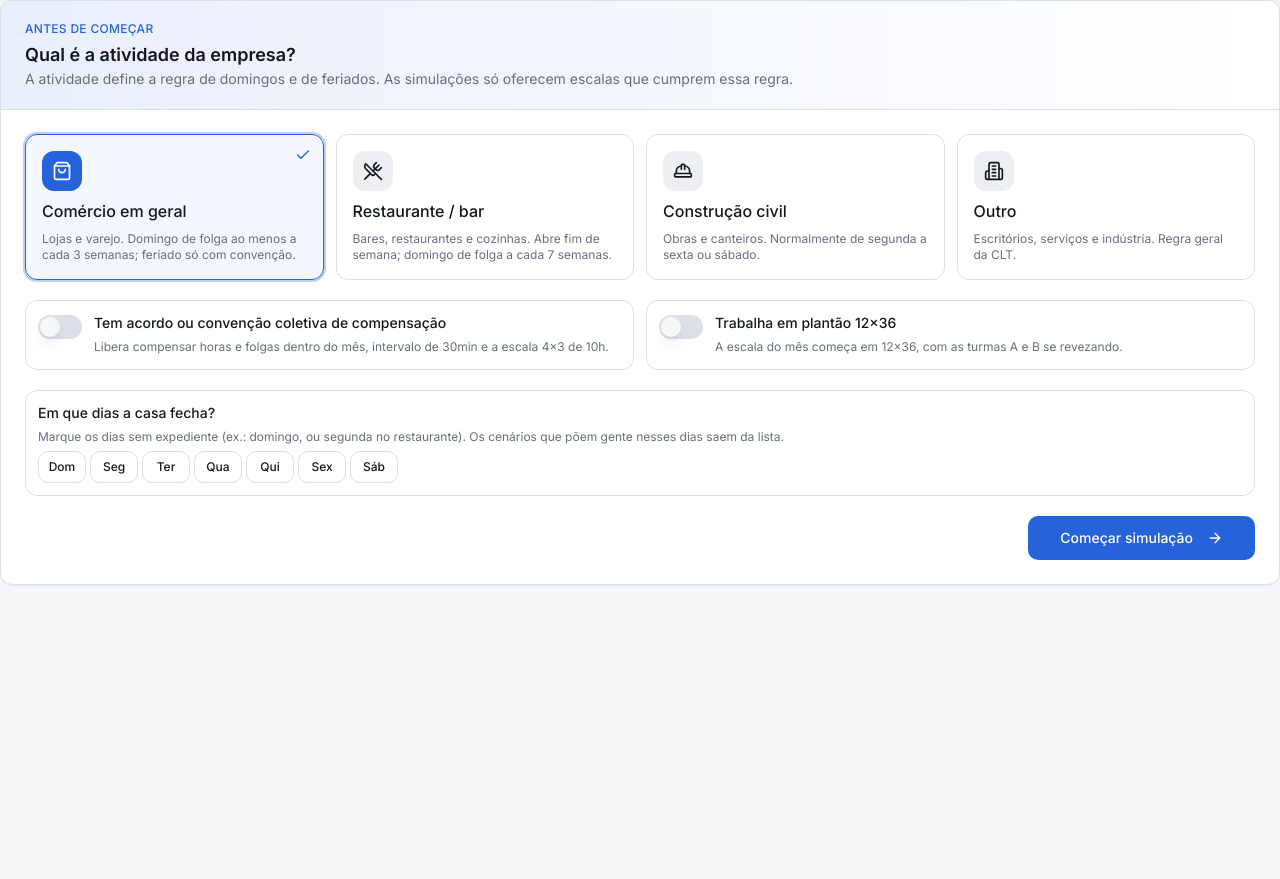
Test case: tela do planejador › pede a atividade antes de simular e salva a escolha
Expected: the heading "Qual é a atividade da empresa?" is shown, [25,44,296,65]
Click the radio button labelled "Restaurante".
click(485, 207)  # box [336,134,634,280]
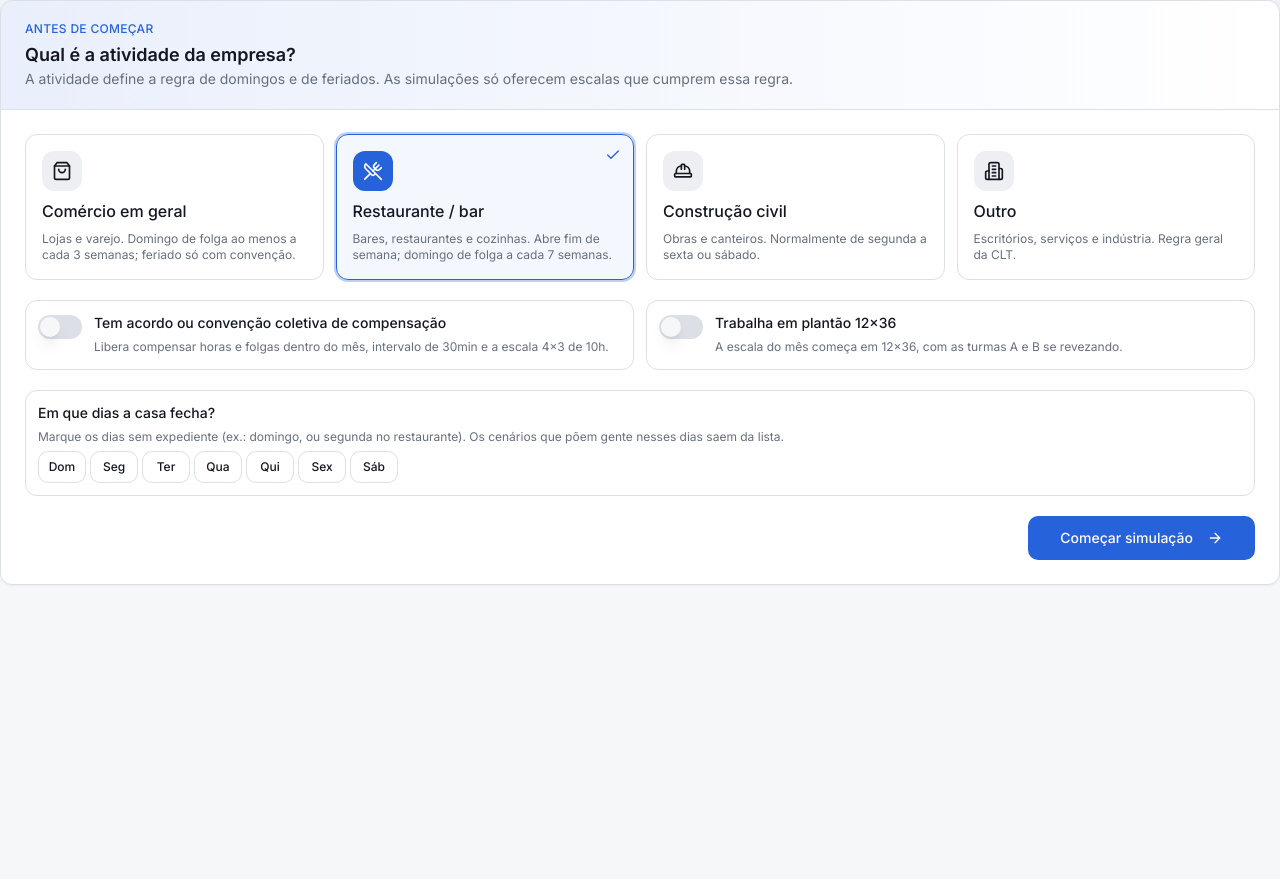
Click the button "Começar simulação".
click(1142, 538)  # box [1028,516,1255,560]
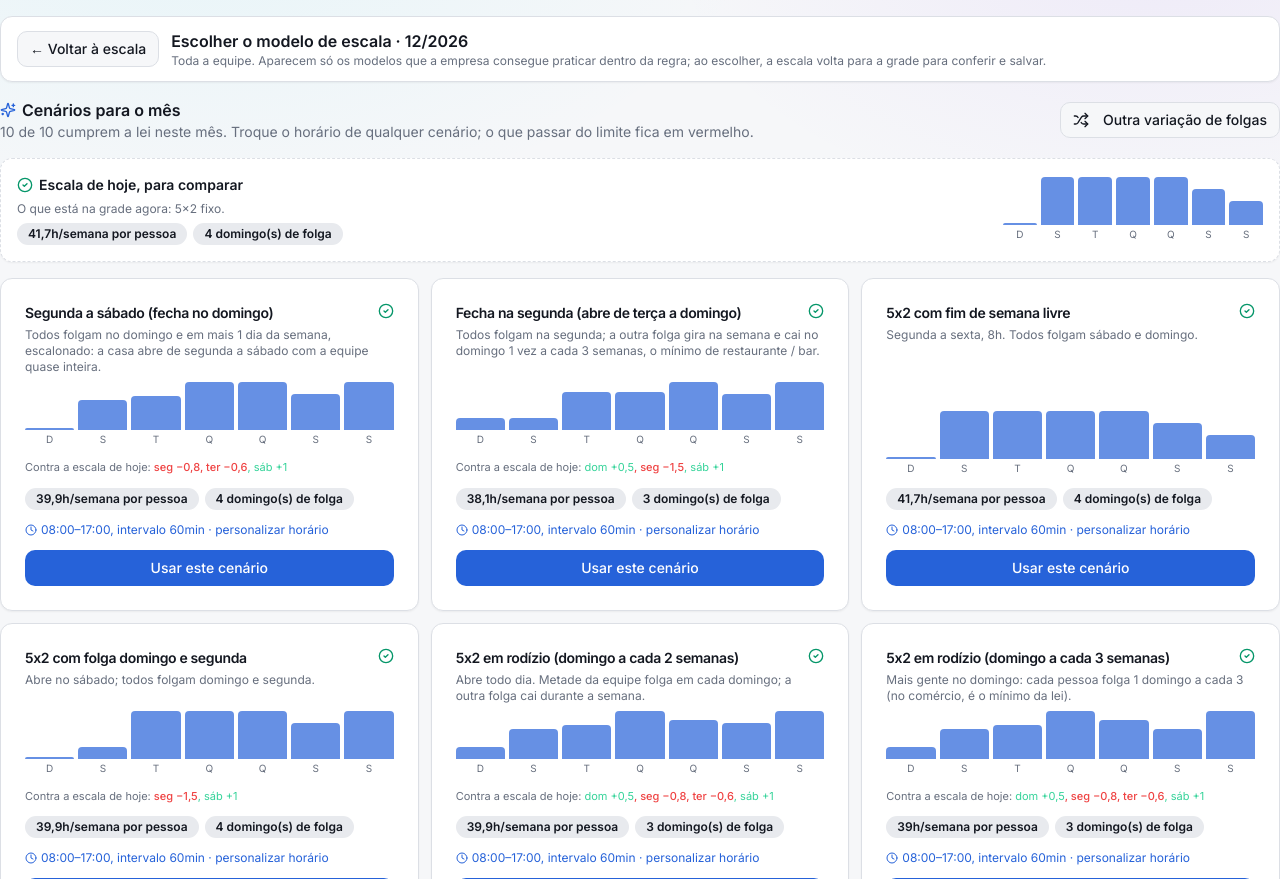
Result: the heading "Cenários para o mês" is shown at [0,100,181,120]
